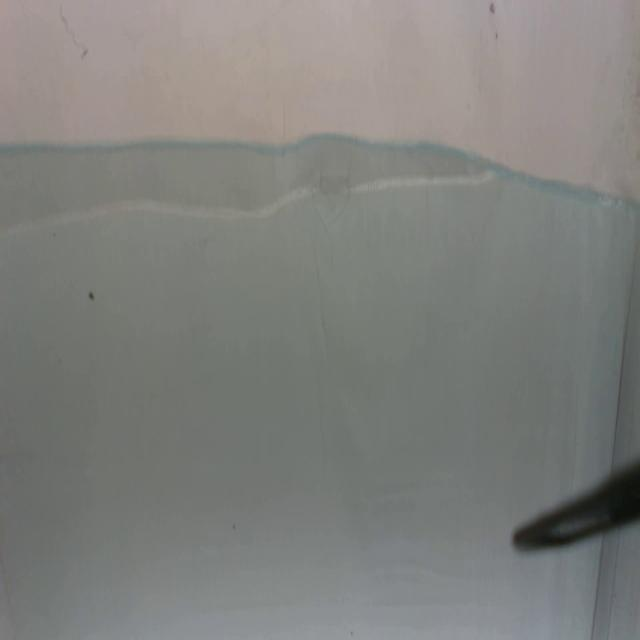hole: (230, 517, 238, 538), (488, 2, 498, 17), (86, 290, 96, 303), (349, 625, 356, 640), (494, 30, 501, 44), (56, 356, 64, 368), (51, 228, 58, 240), (467, 102, 472, 114)
